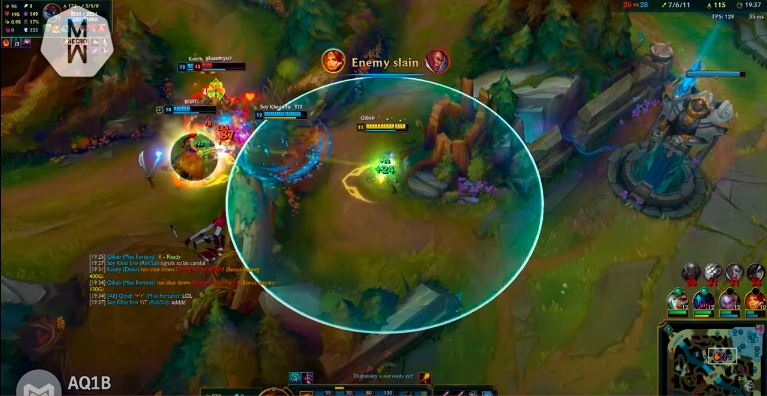bar: (178, 60, 239, 75), (163, 103, 220, 116), (355, 121, 411, 134), (193, 61, 248, 73), (254, 109, 308, 120)
